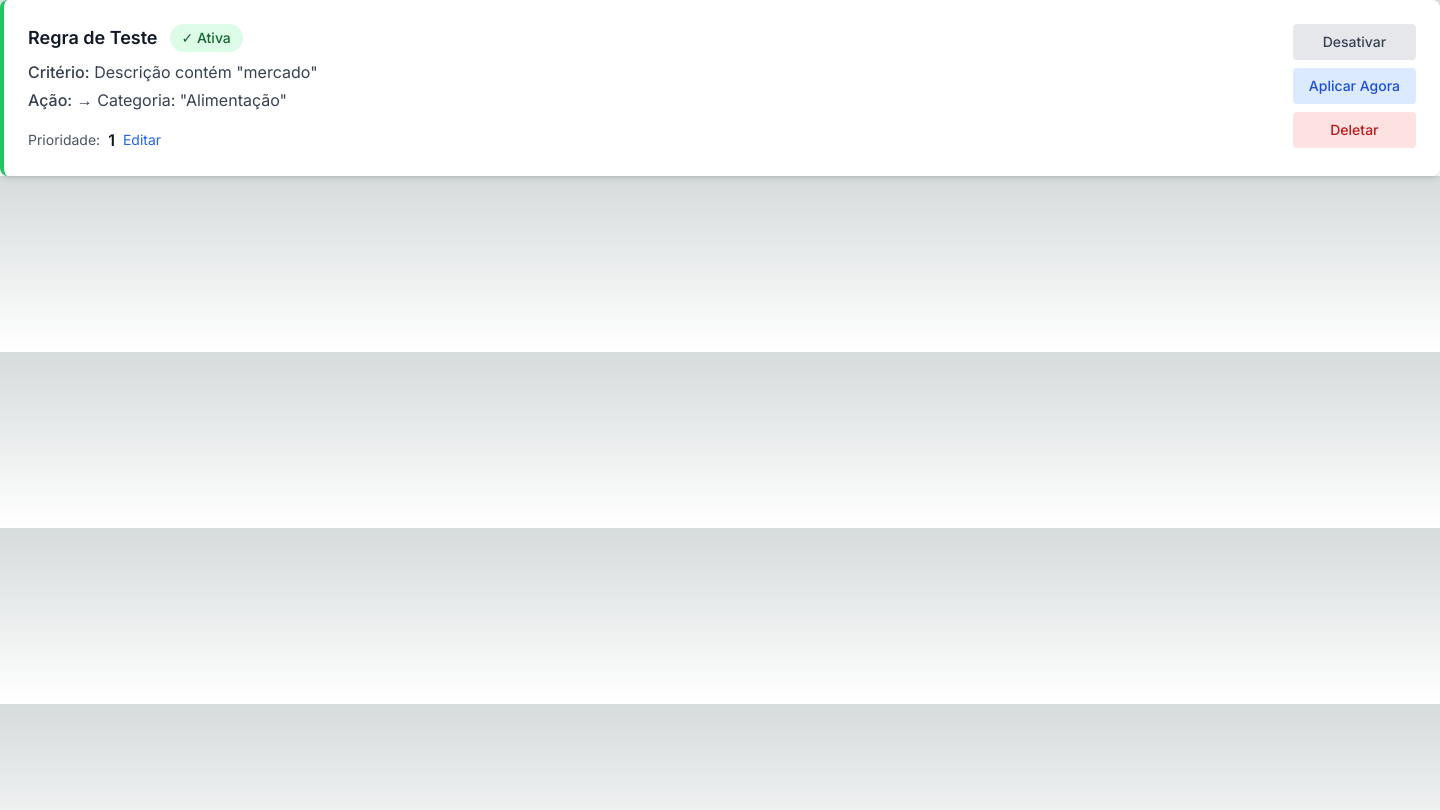
ListaRegras › deve abrir modal ao clicar em deletar
The width and height of the screenshot is (1440, 810).
Click the button "Deletar" at (1354, 130), box [1293,112,1416,148]
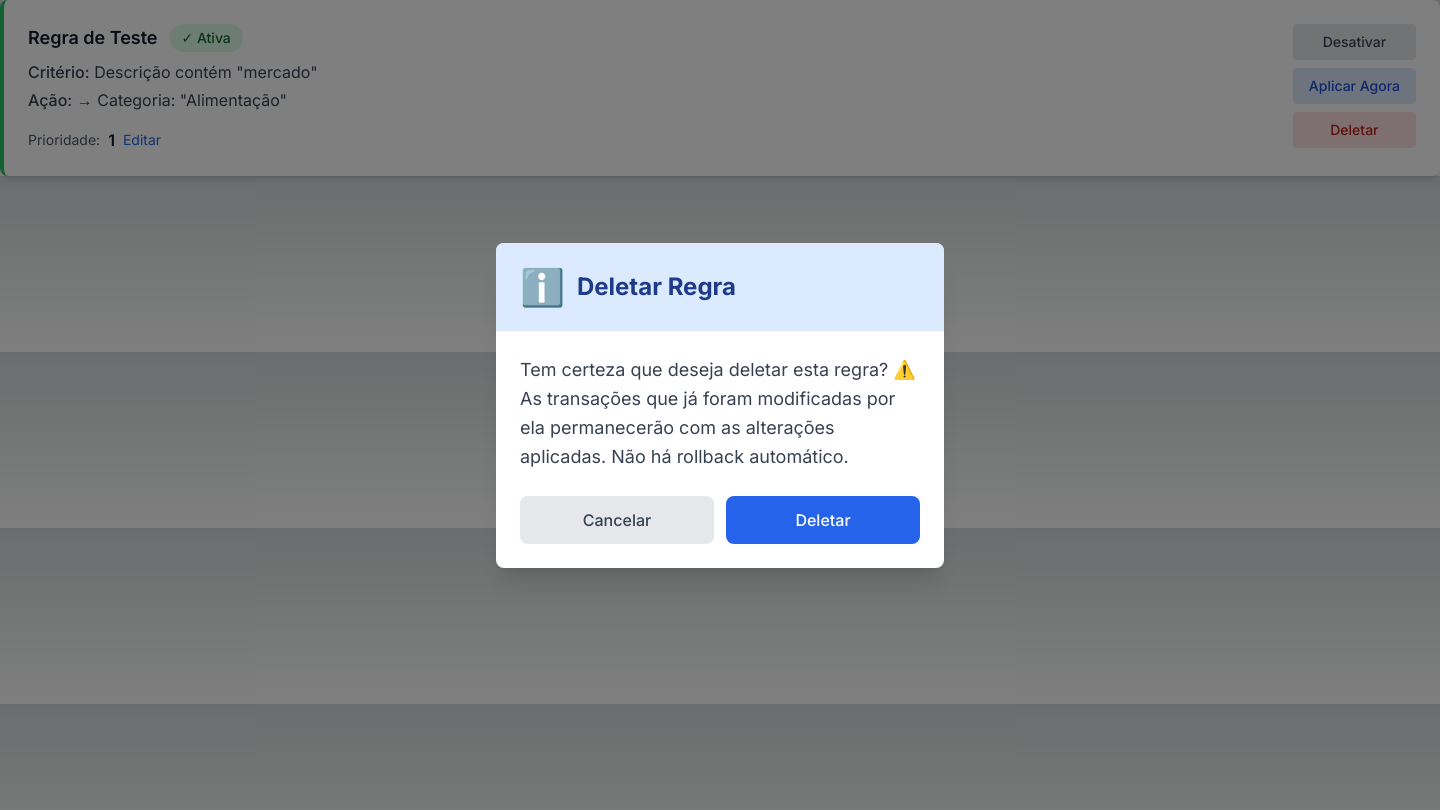
Now the heading "Deletar Regra" is shown, box [577,270,736,302]
